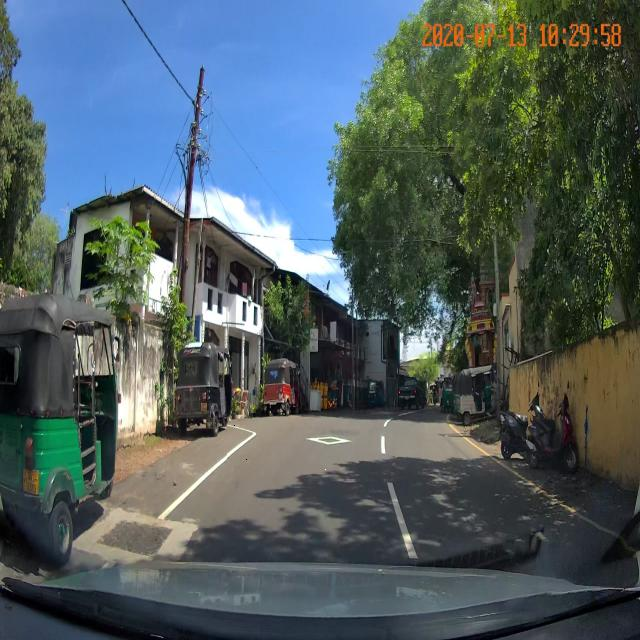diamond: (227, 423, 395, 480)
